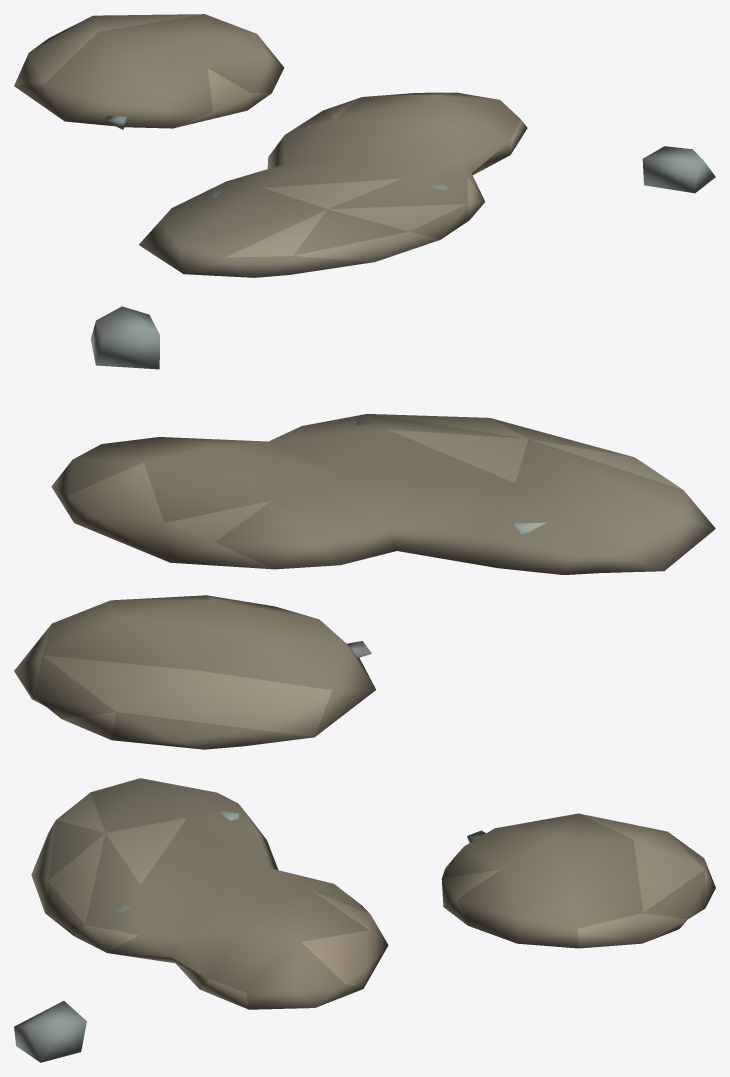
File: grotto_gc_silt_b_lod1.glb
3 renders of one model, top to bottom at view 1: azimuth 30°, elevation 25°; view 2: azimuth 150°, elevation 25°; view 3: azimuth 270°, elevation 25°, orthographic. The views are drawn at different scales.
Visible parts, largest first — view 1: grotto_gc_silt_b.001; view 2: grotto_gc_silt_b.001; view 3: grotto_gc_silt_b.001.
Boxes of the visible parts, left/top/right/bottom form: grotto_gc_silt_b.001: left=14, top=14, right=715, bottom=277; grotto_gc_silt_b.001: left=14, top=306, right=715, bottom=749; grotto_gc_silt_b.001: left=14, top=778, right=715, bottom=1062.
Size of the model in its own units: 3.37 by 0.228 by 3.69.
